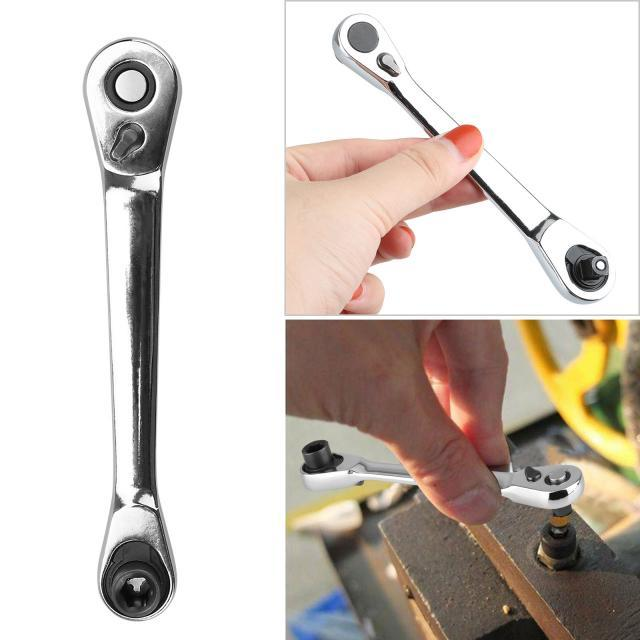wrench: (328, 7, 619, 305), (76, 33, 190, 623), (295, 433, 587, 512)
